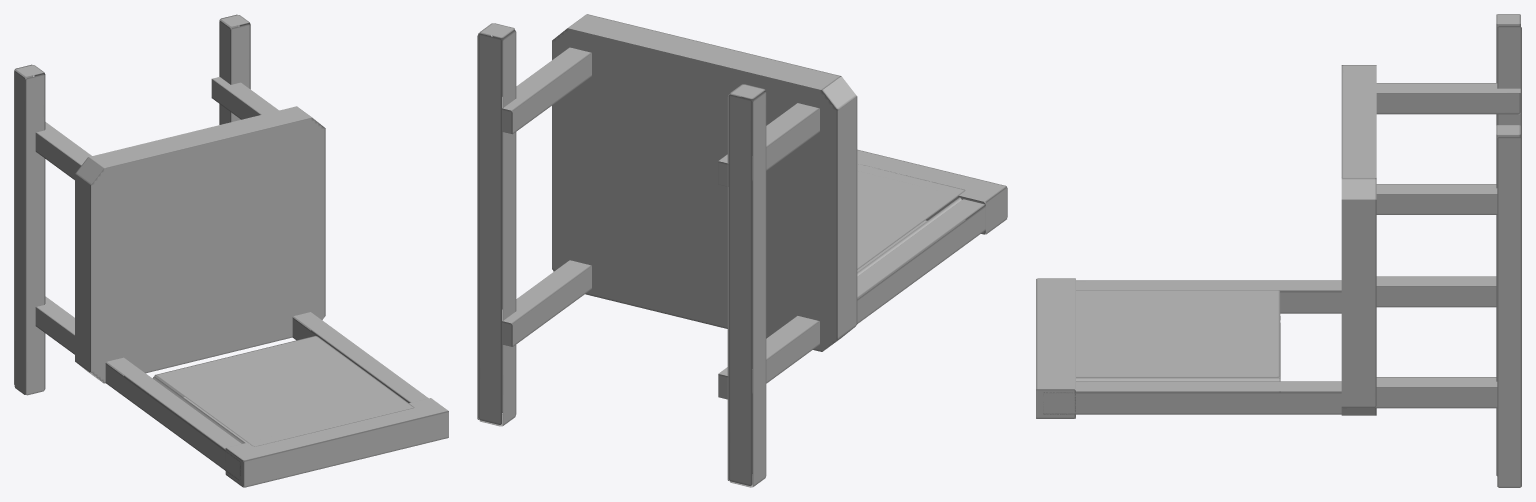
File: pz_chair_seating_indoor_03_rocking.obj
The picture shows the model from 3 angles, left to right: view 1: azimuth 30°, elevation 25°; view 2: azimuth 150°, elevation 25°; view 3: azimuth 270°, elevation 25°; orthographic projection. The views are drawn at different scales.
Bounding box in the file's own units: 0.64 × 0.83 × 1.04.
Materials: 1 (1 with a texture image).
